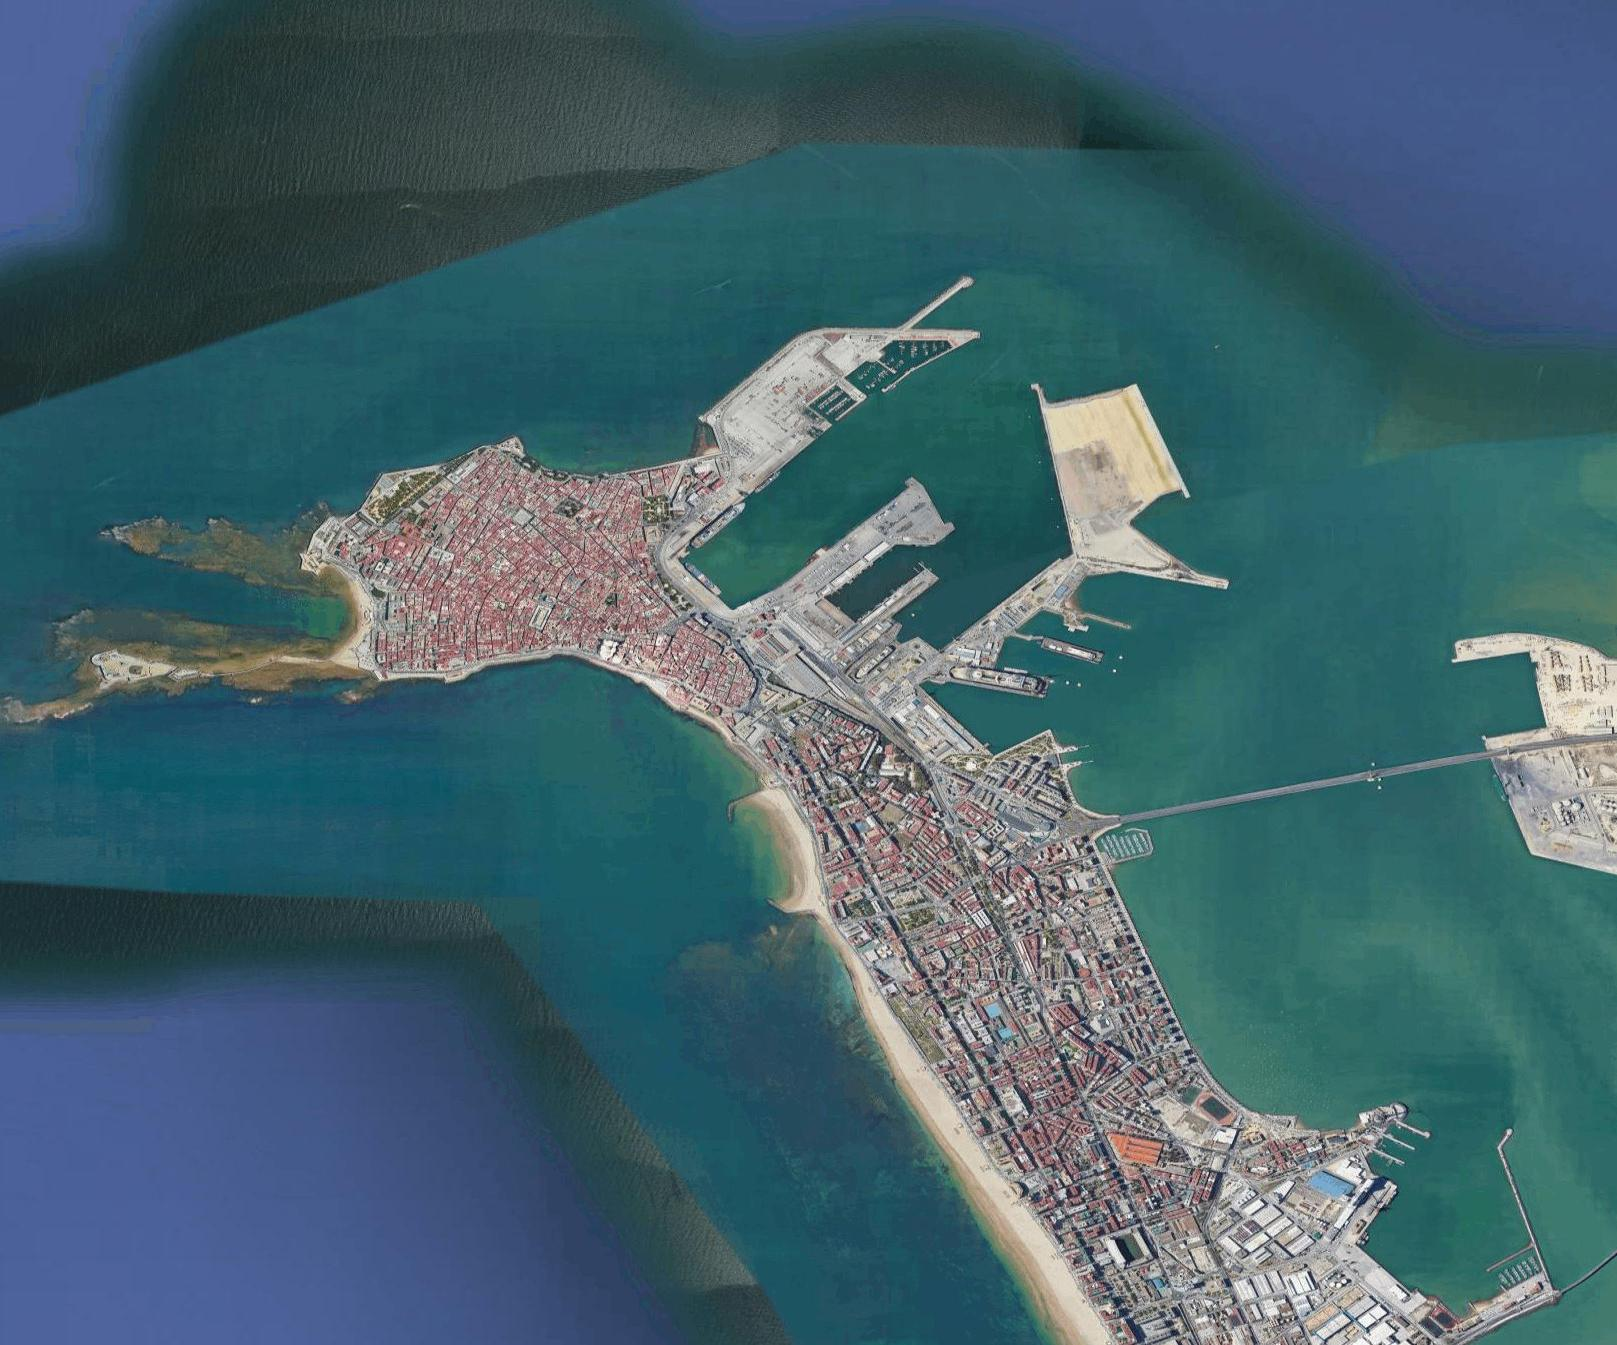harbor: (659, 270, 1233, 722), (1291, 1074, 1617, 1344), (1407, 582, 1617, 895)
train_station: (741, 610, 851, 705)
